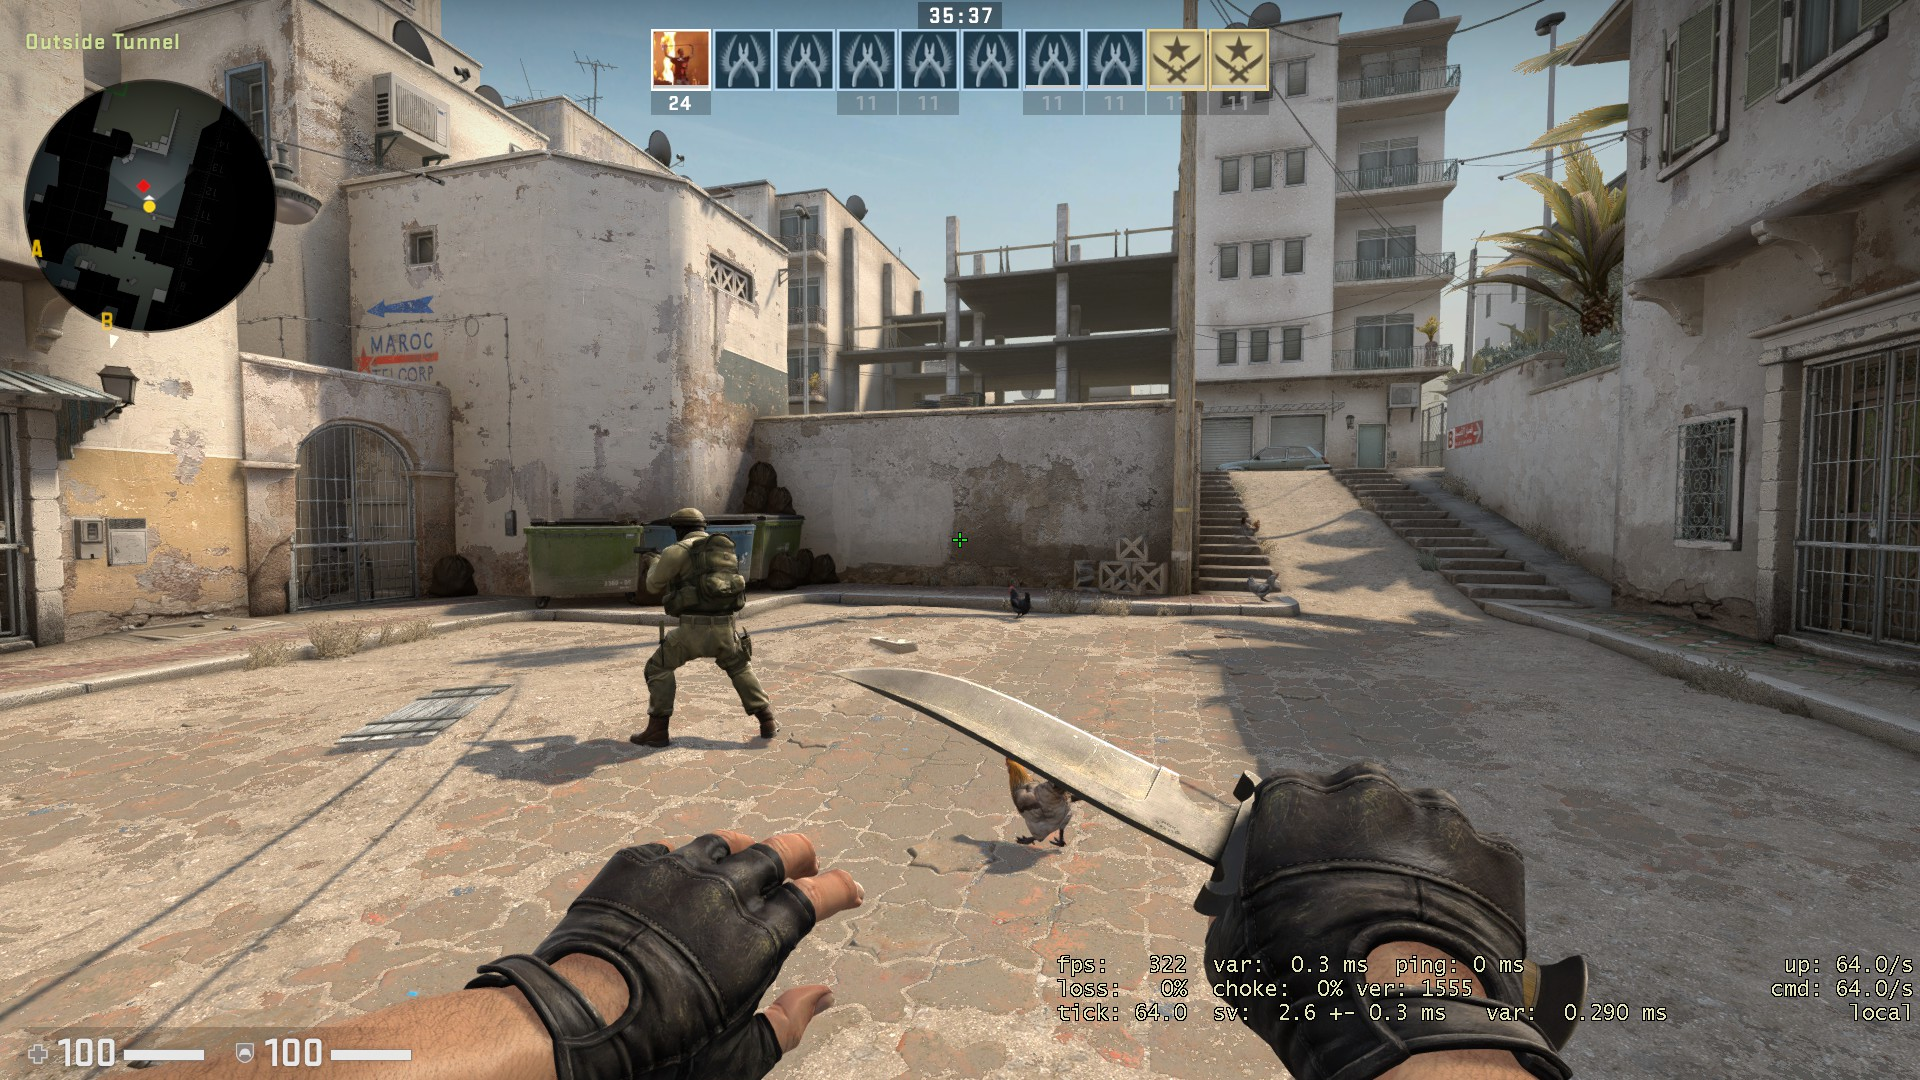player: (625, 504, 784, 754)
